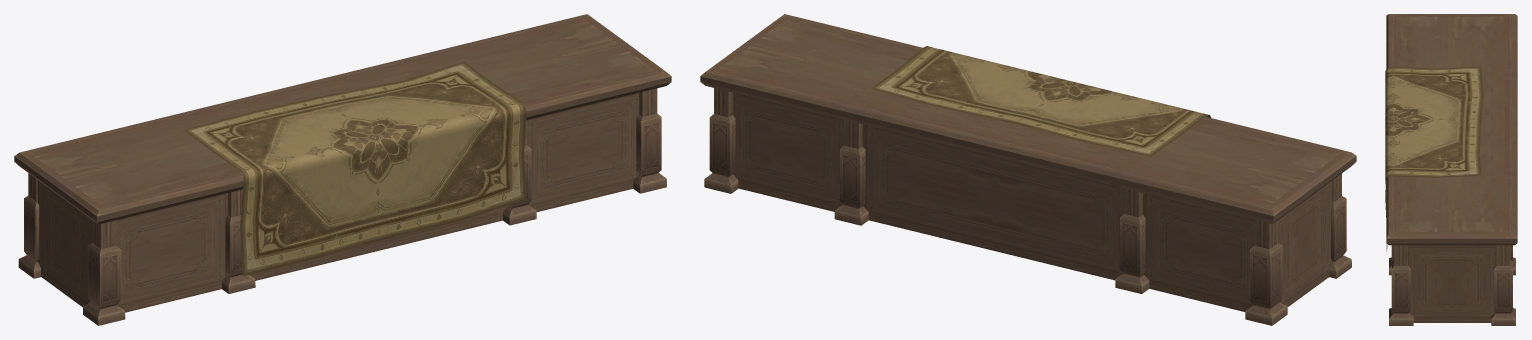
Rendered from Homeworld_Exterior_Xm_Table_Prop_Zhuobu_01_Lod0.fbx.
3 views of the same model, side by side, from view 1: azimuth 30°, elevation 25°; view 2: azimuth 150°, elevation 25°; view 3: azimuth 270°, elevation 25° (orthographic). The views are drawn at different scales.
Visible parts, largest first — view 1: Area_Xm_Prop_XKC_Table_NoShadow_03_Lod0, Area_Xm_Prop_XKC_Dpbu_NoShadow_02_Vo; view 2: Area_Xm_Prop_XKC_Table_NoShadow_03_Lod0, Area_Xm_Prop_XKC_Dpbu_NoShadow_02_Vo; view 3: Area_Xm_Prop_XKC_Table_NoShadow_03_Lod0, Area_Xm_Prop_XKC_Dpbu_NoShadow_02_Vo.
Boxes of the visible parts, box(x1,y1,x2,y2) form: Area_Xm_Prop_XKC_Table_NoShadow_03_Lod0: box(14, 14, 671, 325); Area_Xm_Prop_XKC_Dpbu_NoShadow_02_Vo: box(184, 61, 526, 276); Area_Xm_Prop_XKC_Table_NoShadow_03_Lod0: box(700, 14, 1356, 325); Area_Xm_Prop_XKC_Dpbu_NoShadow_02_Vo: box(871, 46, 1210, 156); Area_Xm_Prop_XKC_Table_NoShadow_03_Lod0: box(1386, 14, 1517, 325); Area_Xm_Prop_XKC_Dpbu_NoShadow_02_Vo: box(1385, 66, 1483, 251).
Bounding box in the file's own units: 4.27 × 0.8435 × 1.07.
